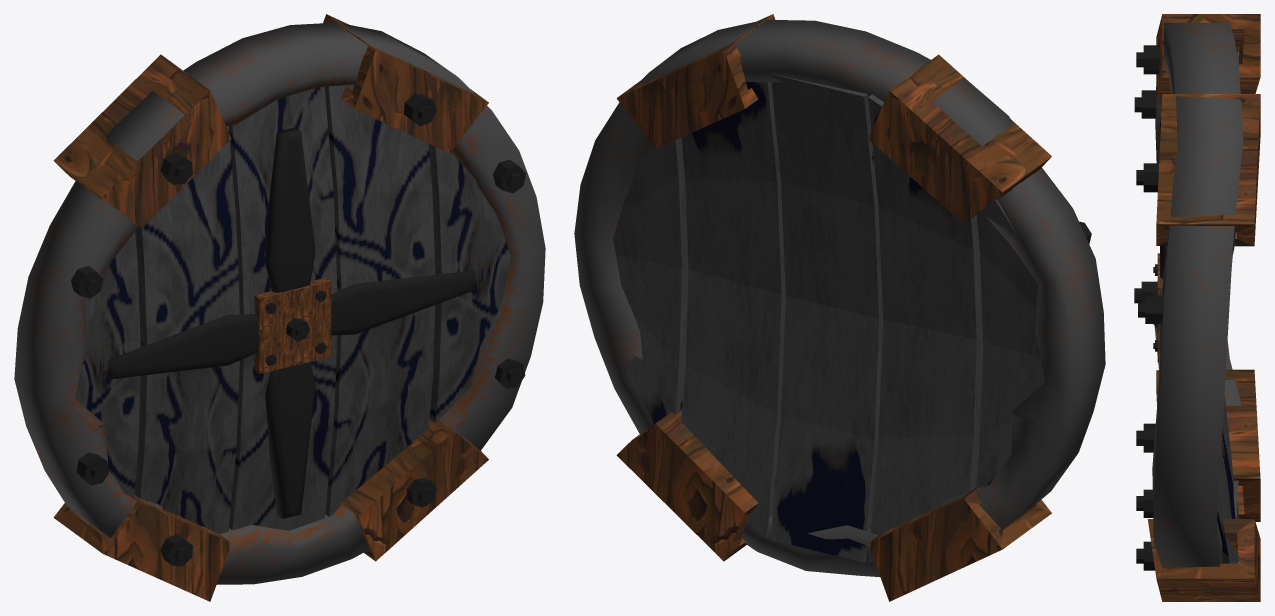
Rendered from shield3.fbx.
3 renders of one model, left to right at view 1: azimuth 30°, elevation 25°; view 2: azimuth 150°, elevation 25°; view 3: azimuth 270°, elevation 25°, orthographic.
Parts seen in each view (by area): view 1: Cube.015, cube_lowpoly.003, Cylinder.031, Cylinder.035, Cylinder.030, Cylinder.037, Cylinder.034, Cylinder.036; view 2: cube_lowpoly.003, Cube.015; view 3: Cube.015, cube_lowpoly.003, Cylinder.031, Cylinder.037, Cylinder.030, Cylinder.036, Cylinder.034, Cylinder.033, Cylinder.032, Cylinder.035.
Boxes of the visible parts, box(x1,y1,x2,y2) form: Cube.015: box(14, 14, 545, 601); cube_lowpoly.003: box(75, 85, 510, 534); Cylinder.031: box(493, 159, 525, 193); Cylinder.035: box(77, 452, 109, 485); Cylinder.030: box(404, 93, 436, 126); Cylinder.037: box(160, 152, 192, 184); Cylinder.034: box(160, 534, 192, 566); Cylinder.036: box(71, 266, 103, 298); cube_lowpoly.003: box(612, 74, 1045, 562); Cube.015: box(574, 14, 1105, 601); Cube.015: box(1147, 14, 1260, 601); cube_lowpoly.003: box(1217, 51, 1238, 563); Cylinder.031: box(1138, 295, 1163, 323); Cylinder.037: box(1136, 45, 1159, 74); Cylinder.030: box(1136, 163, 1158, 192); Cylinder.036: box(1134, 90, 1156, 118); Cylinder.034: box(1136, 423, 1155, 452); Cylinder.033: box(1136, 541, 1154, 570); Cylinder.032: box(1136, 489, 1153, 517); Cylinder.035: box(1134, 281, 1157, 303).
Size of the model in its own units: 201 by 201 by 44.36.
